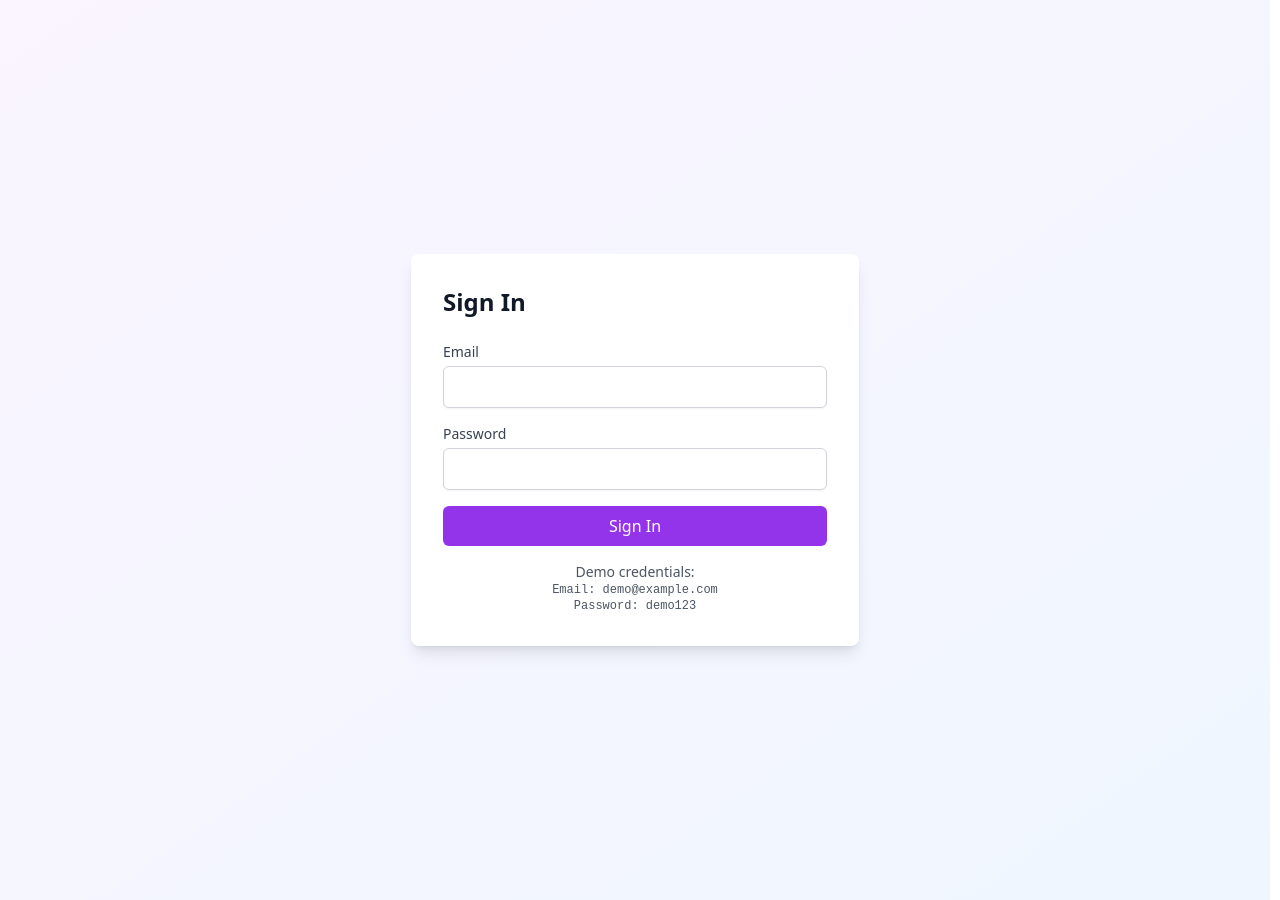
Test: LoginForm Secure Error Handling Integration › should display generic error messages from security error handler
The width and height of the screenshot is (1280, 900).
Type "test@example.com" into the field labelled "Email" at (635, 387), box [443,366,827,408]
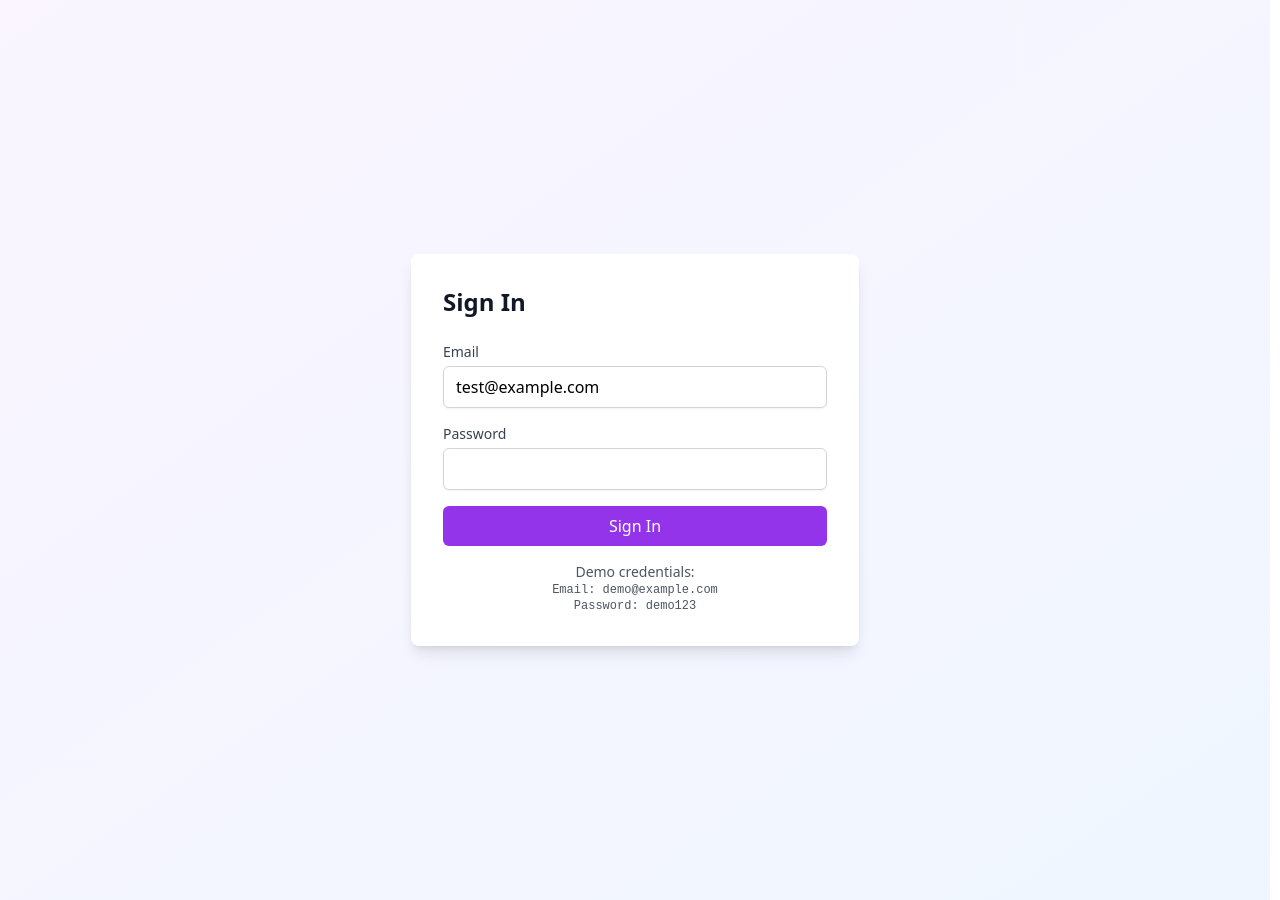
Type "password123" into the password field labelled "Password" at (635, 469), box [443,448,827,490]
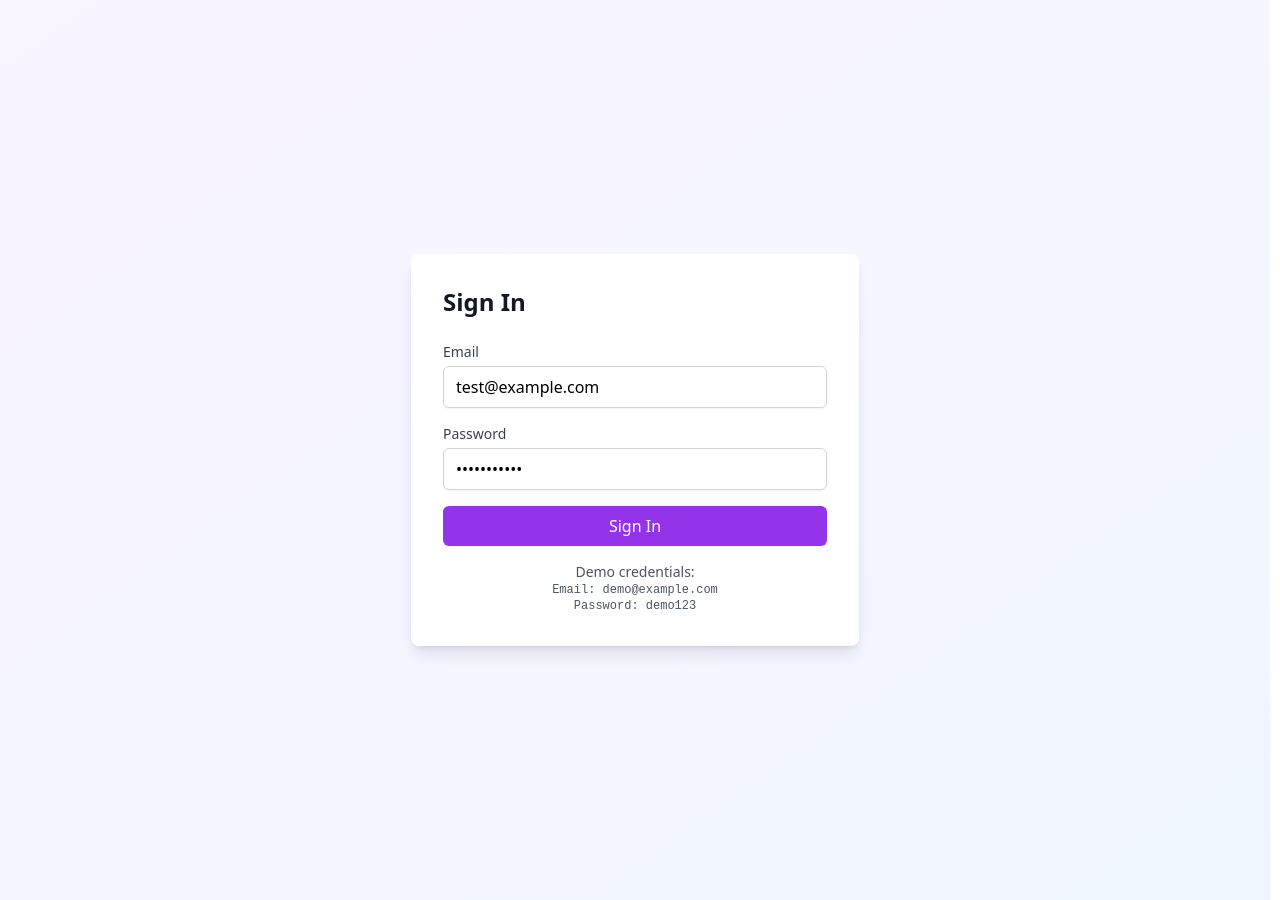
Submit the form, box [443,342,827,546]
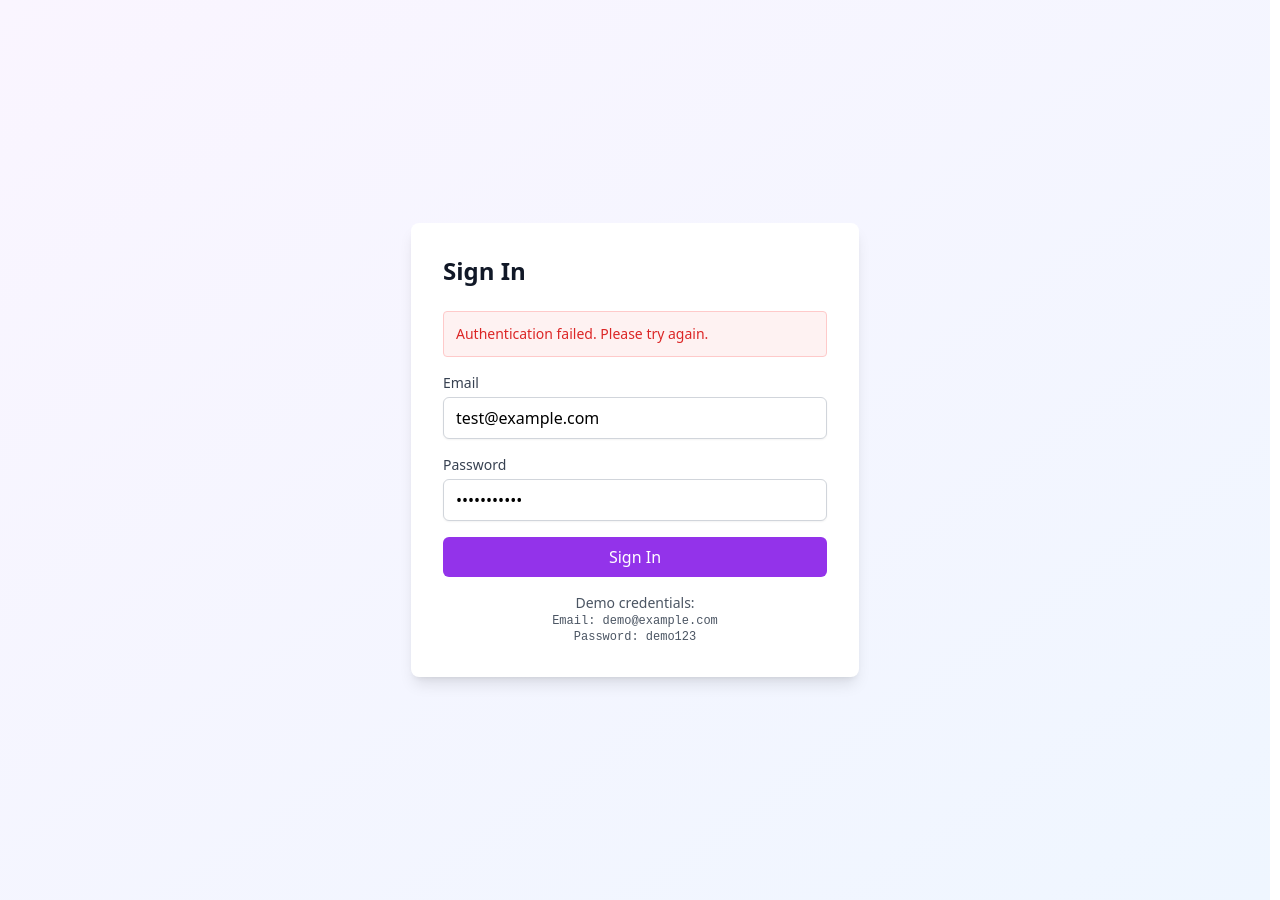
Expected: the text "Authentication failed. Please try again." is shown, [443,311,827,357]
